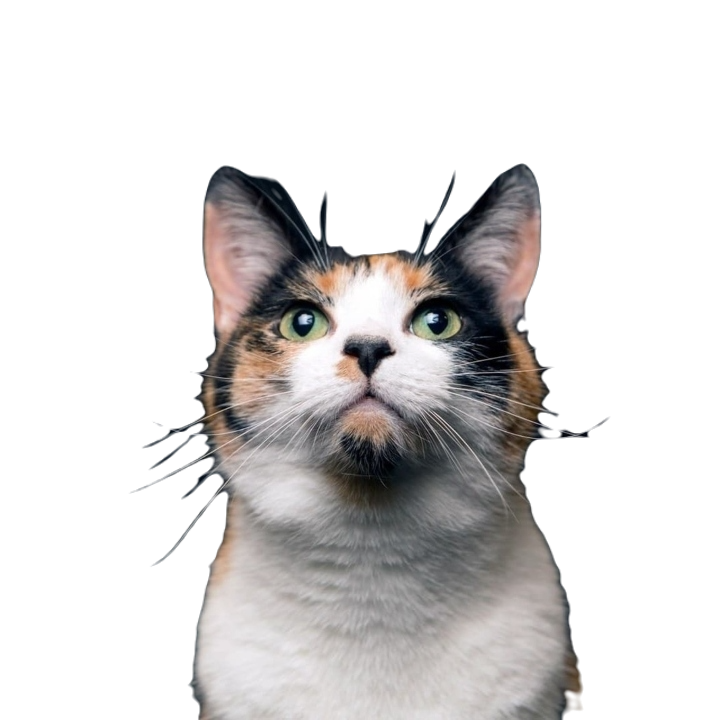Cat: (138, 155, 599, 719)
